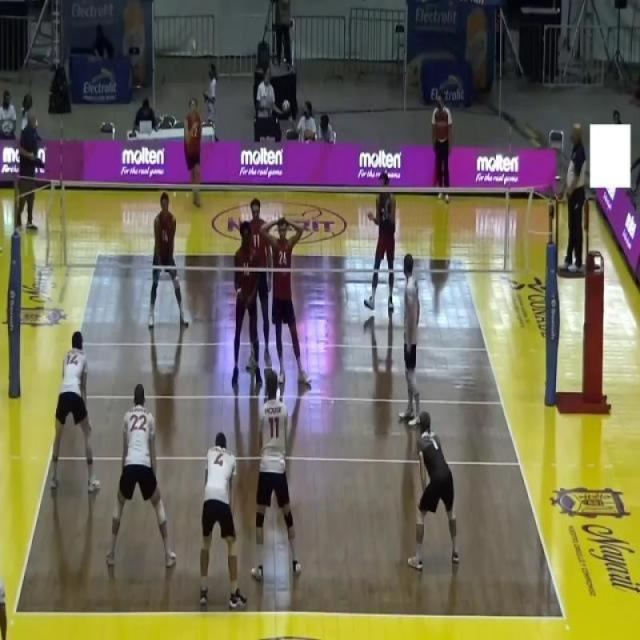volleyball: (190, 38, 198, 56), (282, 98, 290, 115)
